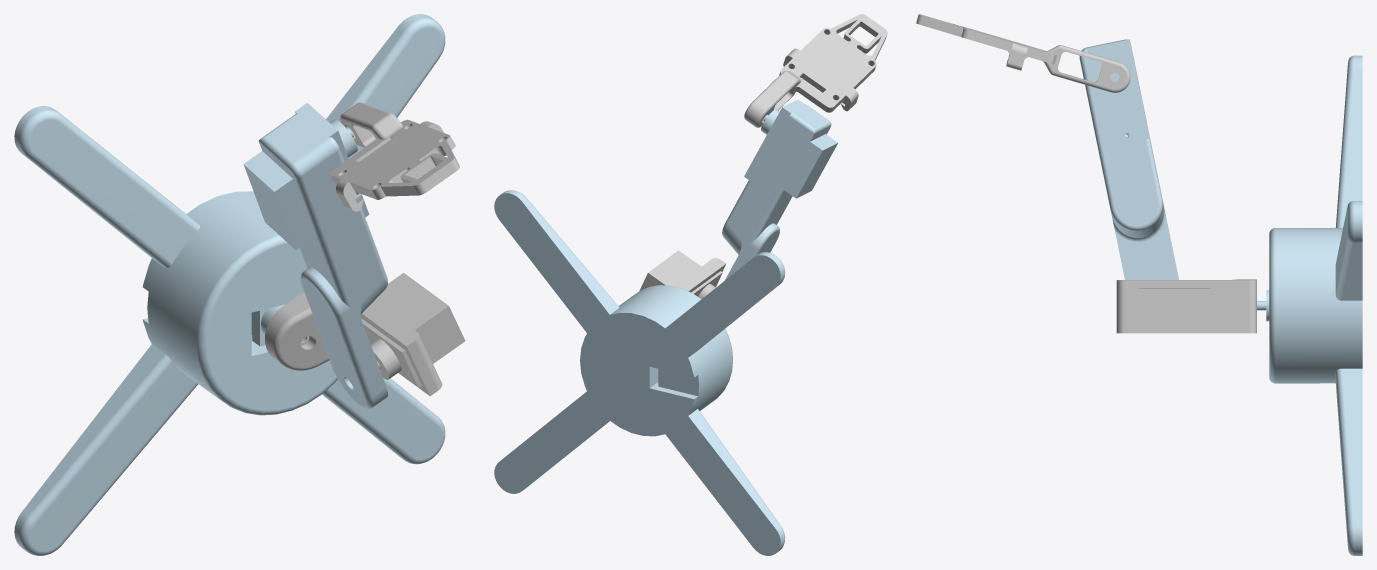
The model's file is MRF_ALL.gltf.
3 renders of one model, left to right at view 1: azimuth 30°, elevation 25°; view 2: azimuth 150°, elevation 25°; view 3: azimuth 270°, elevation 25°, orthographic. The views are drawn at different scales.
Visible parts, largest first — view 1: Part 1 (×4); view 2: Part 1 (×4); view 3: Part 1 (×4).
Boxes of the visible parts, x1=… form: Part 1 (×4): x1=14, y1=14, x2=465, y2=555; Part 1 (×4): x1=494, y1=14, x2=887, y2=555; Part 1 (×4): x1=916, y1=14, x2=1362, y2=555.
Bounding box in the file's own units: 0.1243 × 0.1579 × 0.1433.
